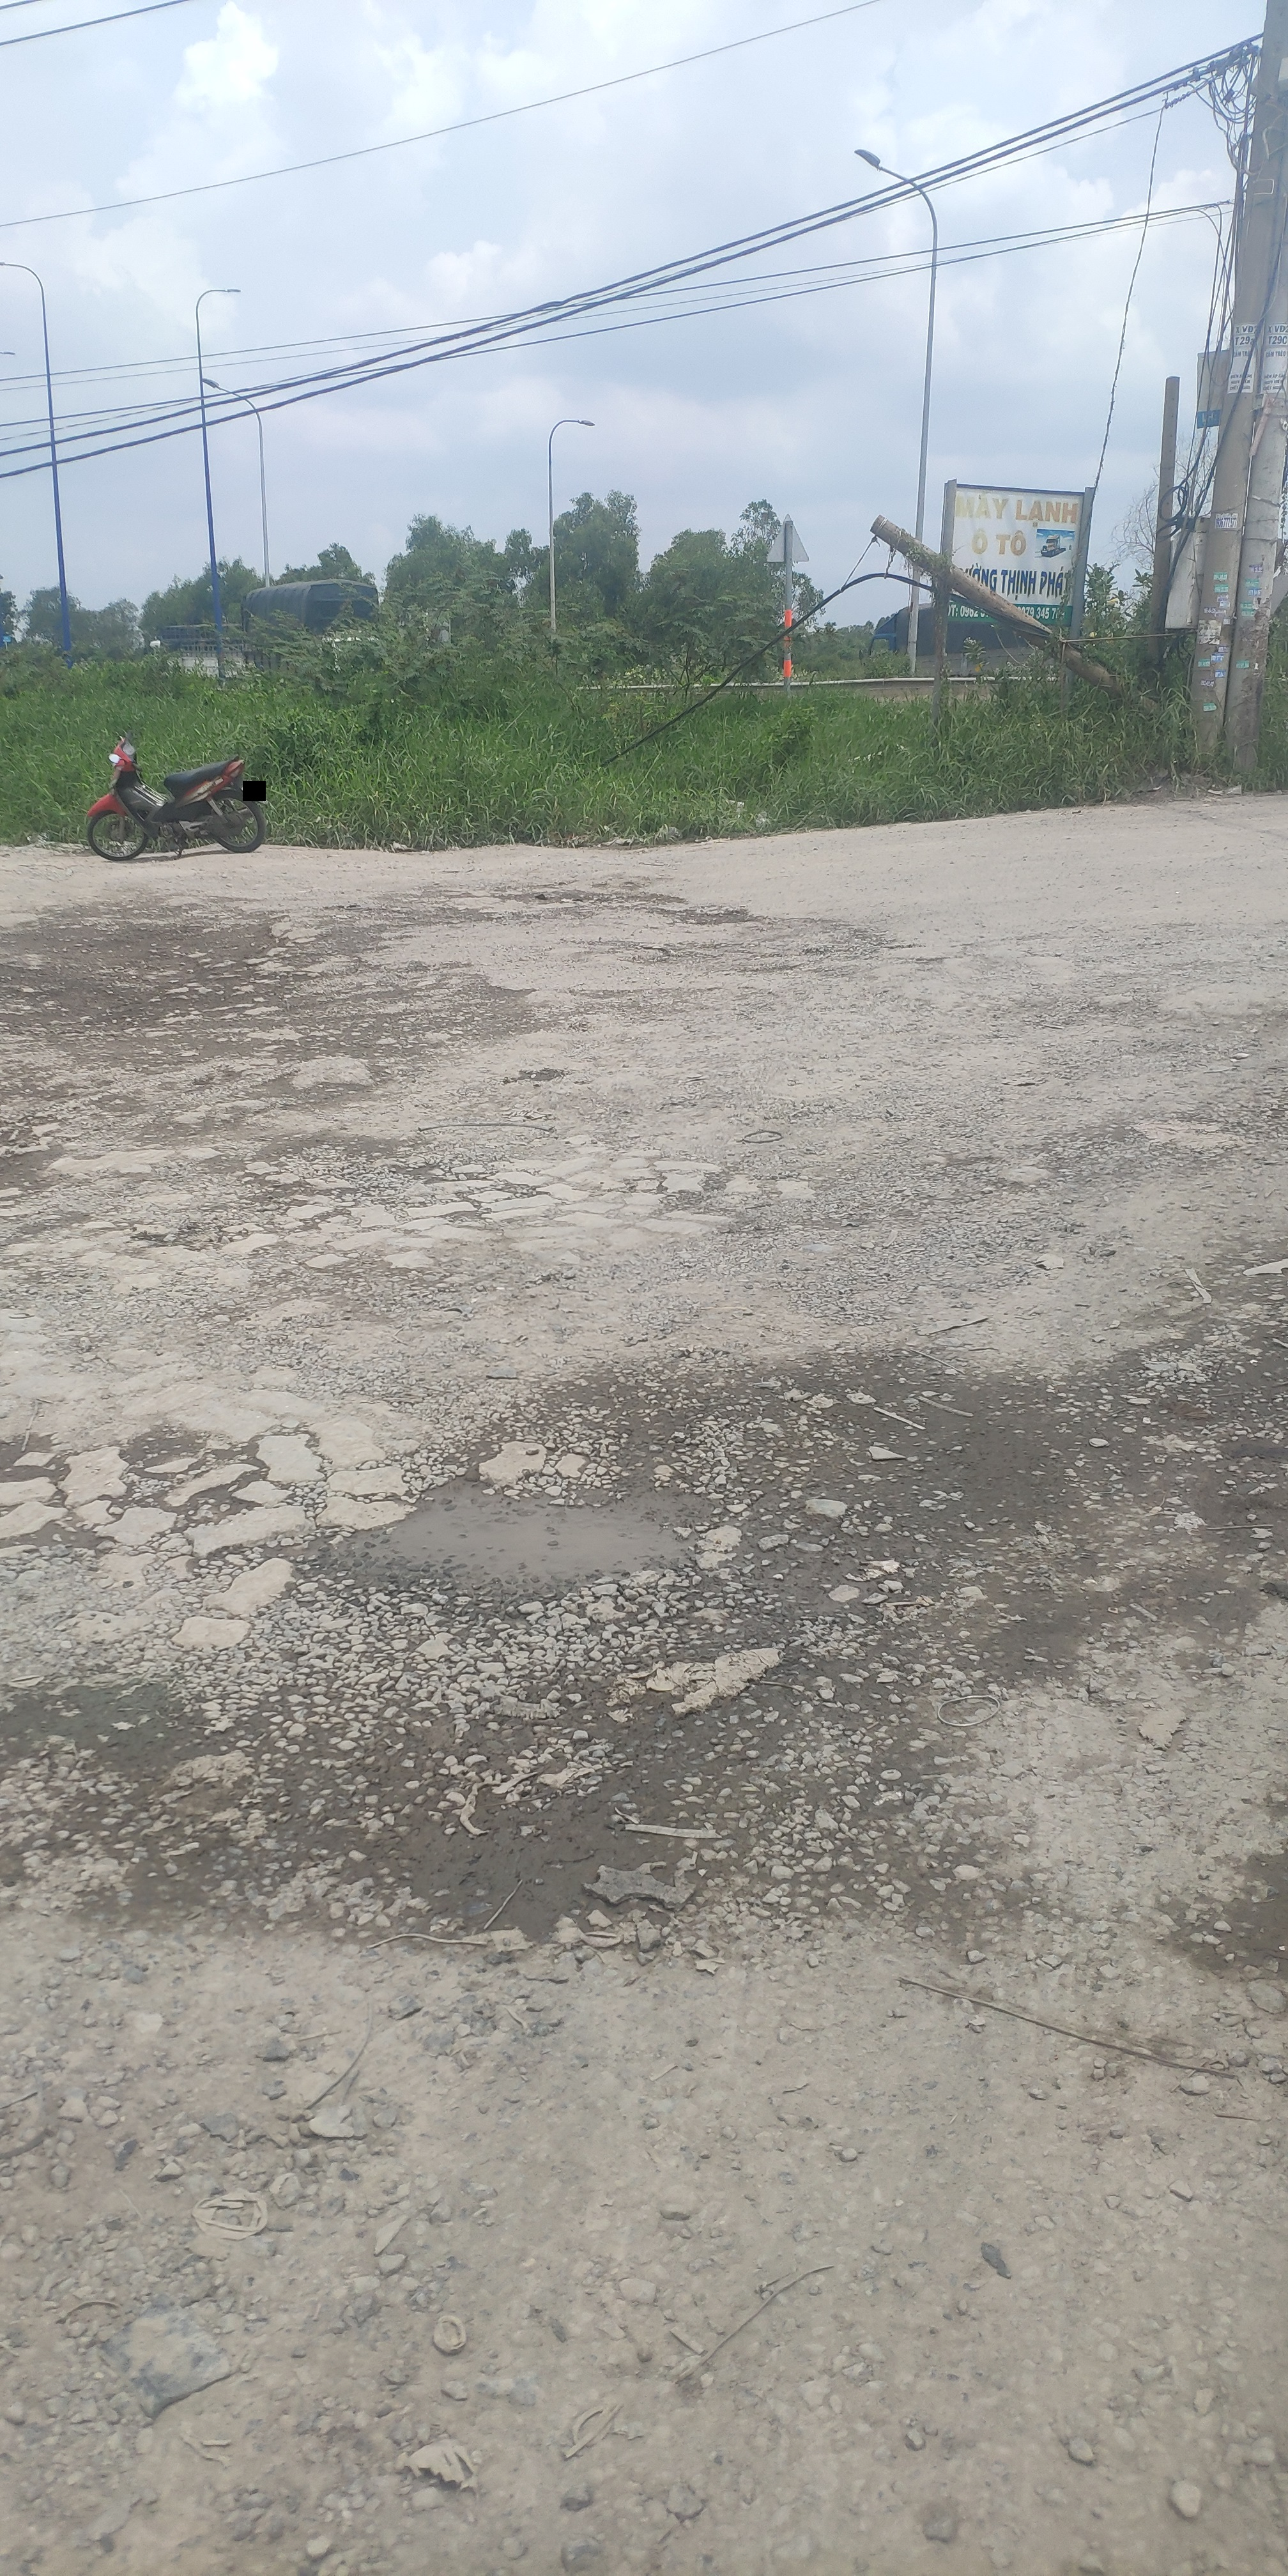hole: (284, 1439, 876, 1983), (15, 907, 283, 1028), (287, 1127, 465, 1222), (503, 881, 637, 923), (678, 902, 770, 931)
